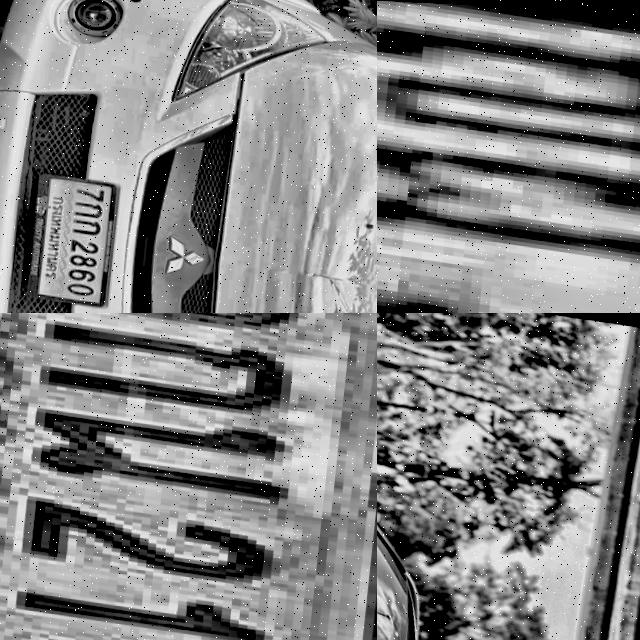license-plate: (0, 313, 377, 640), (377, 0, 640, 313), (22, 169, 121, 308)
